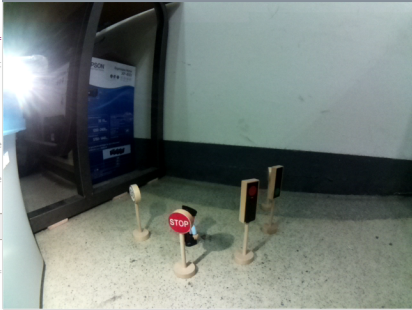Green: (267, 164, 285, 201)
Red: (240, 177, 259, 226)
Stop: (166, 209, 194, 234)
